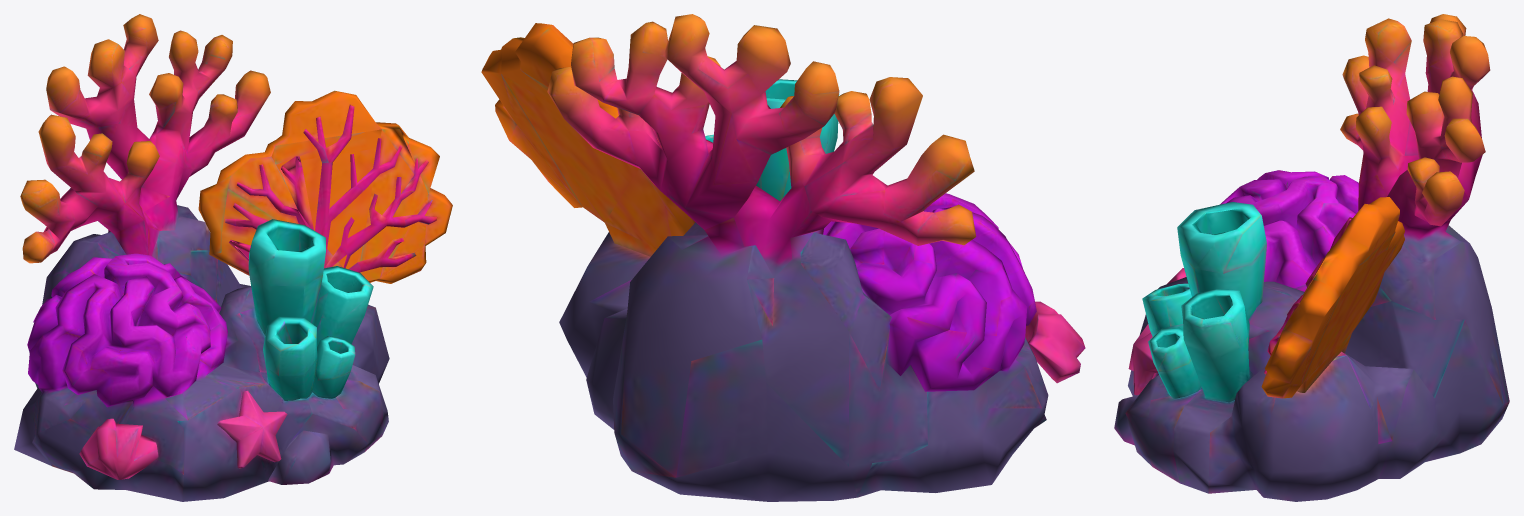
The model's file is coral1.glb.
3 renders of one model, left to right at view 1: azimuth 30°, elevation 25°; view 2: azimuth 150°, elevation 25°; view 3: azimuth 270°, elevation 25°, orthographic. The views are drawn at different scales.
Size of the model in its own units: 0.9644 by 0.7827 by 0.7236.
Materials: 1 (1 with a texture image).
